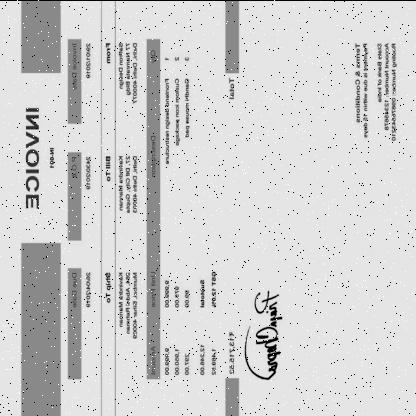Paragraph: (352, 38, 400, 144), (24, 103, 58, 211), (226, 74, 236, 376), (100, 266, 140, 340), (101, 38, 140, 106), (100, 151, 140, 215), (197, 268, 219, 376), (68, 38, 94, 93), (68, 266, 94, 310), (68, 151, 94, 192)
Table: (146, 38, 193, 378)
